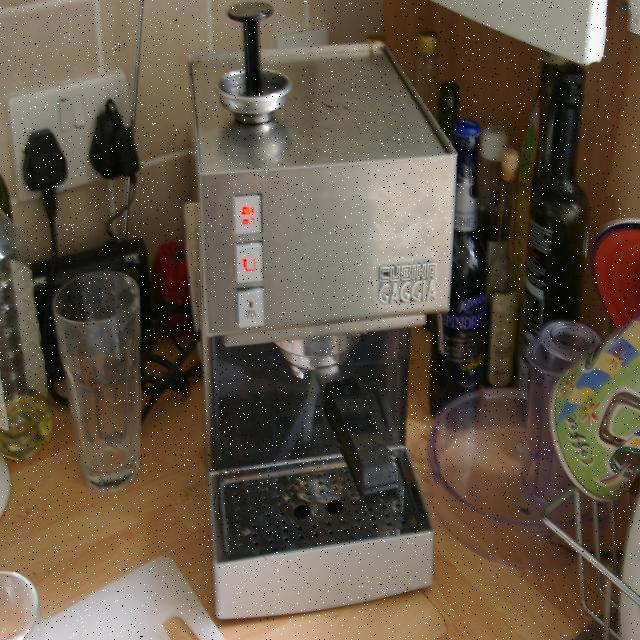Coffee-Machine: (185, 1, 470, 632)
